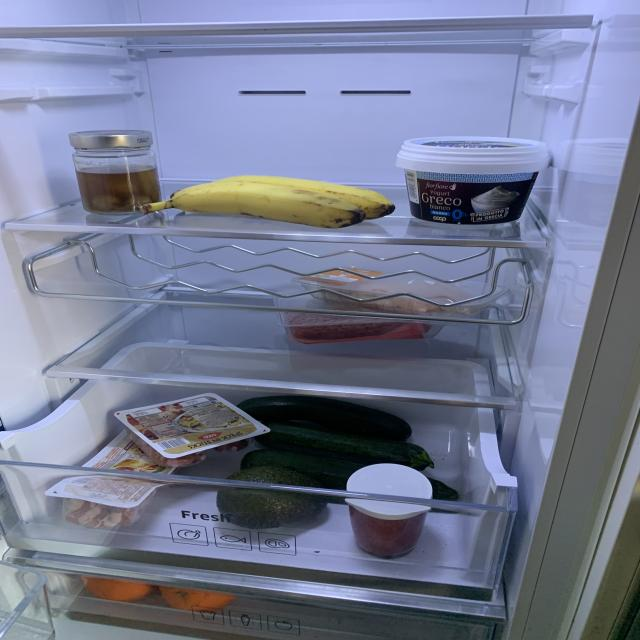avocado: (218, 471, 327, 531)
bacon: (60, 485, 156, 528), (125, 418, 208, 466), (216, 439, 248, 451)
banana: (139, 176, 394, 228)
chicken_breast: (293, 268, 503, 317)
courgettes: (237, 395, 464, 503)
ground_beef: (290, 312, 430, 340)
olives: (75, 167, 162, 214)
orange: (81, 571, 156, 602), (158, 584, 236, 610)
tomato_sauce: (346, 506, 429, 558)
yoghurt: (396, 136, 552, 226)
